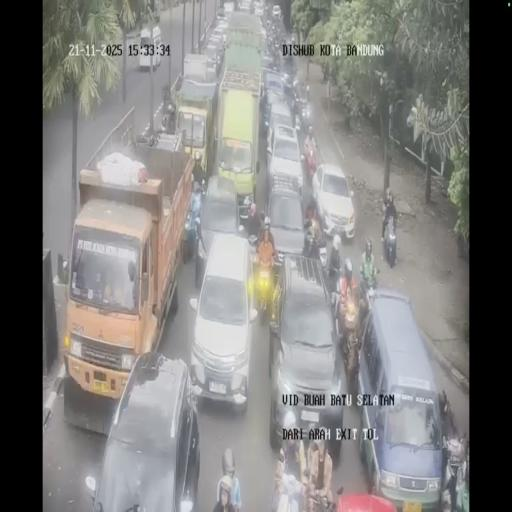car: (353, 288, 440, 502), (90, 353, 200, 509), (268, 257, 344, 451), (196, 174, 244, 283), (263, 190, 307, 270), (312, 161, 355, 241), (266, 122, 304, 198), (138, 26, 162, 71), (262, 70, 287, 108), (202, 40, 224, 74), (279, 52, 297, 84), (212, 16, 229, 45), (260, 47, 276, 73), (252, 0, 264, 16), (238, 0, 252, 13), (223, 1, 235, 15), (272, 4, 282, 20)
motorcycle: (252, 250, 278, 320), (302, 224, 326, 266), (381, 212, 398, 267), (360, 270, 379, 310), (326, 249, 342, 295), (246, 200, 262, 240), (298, 96, 314, 132), (304, 147, 317, 181), (290, 86, 301, 122)
truck: (172, 65, 218, 180), (222, 9, 264, 81), (145, 0, 159, 22)
